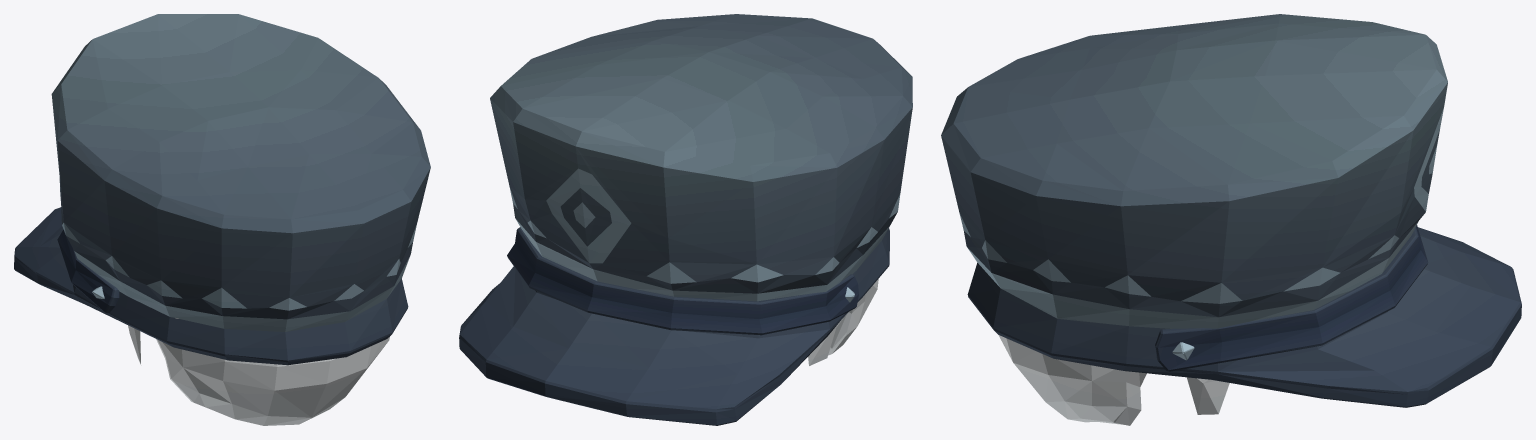
File: CharSkyKid_Hair_AP11UniformHat_01.glb
3 views of the same model, side by side, from view 1: azimuth 30°, elevation 25°; view 2: azimuth 150°, elevation 25°; view 3: azimuth 270°, elevation 25° (orthographic). The views are drawn at different scales.
Visible parts, largest first — view 1: CharSkyKid_Hair_AP11UniformHat_01; view 2: CharSkyKid_Hair_AP11UniformHat_01; view 3: CharSkyKid_Hair_AP11UniformHat_01.
Boxes of the visible parts, x1=… form: CharSkyKid_Hair_AP11UniformHat_01: x1=14, y1=14, x2=430, y2=425; CharSkyKid_Hair_AP11UniformHat_01: x1=459, y1=14, x2=912, y2=425; CharSkyKid_Hair_AP11UniformHat_01: x1=941, y1=14, x2=1521, y2=425.
Bounding box in the file's own units: 2.87 × 2.65 × 3.97.
Materials: 1 (1 with a texture image).
